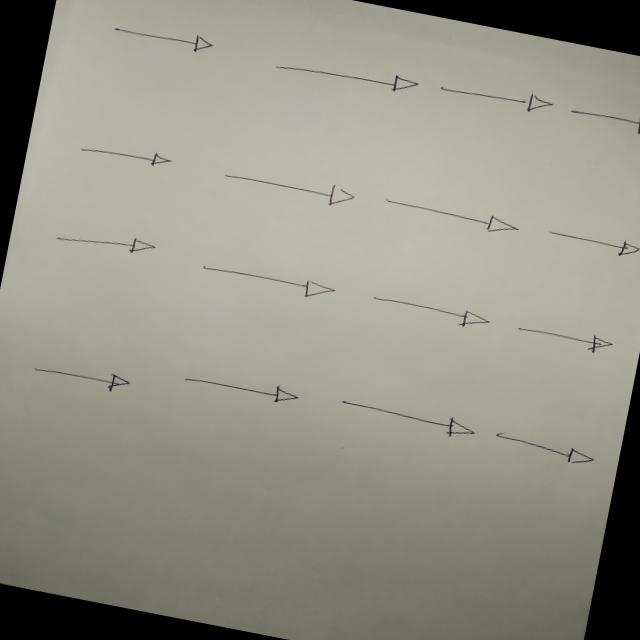arrow_line_right: (182, 249, 351, 314), (264, 42, 425, 108), (371, 183, 530, 247), (326, 388, 488, 448), (212, 152, 361, 215), (168, 360, 322, 418), (358, 282, 498, 338), (428, 70, 556, 128), (98, 10, 231, 64), (499, 311, 634, 364), (47, 217, 169, 275), (22, 349, 151, 402), (488, 424, 608, 476), (534, 212, 640, 266), (71, 130, 179, 178), (562, 95, 640, 143)
